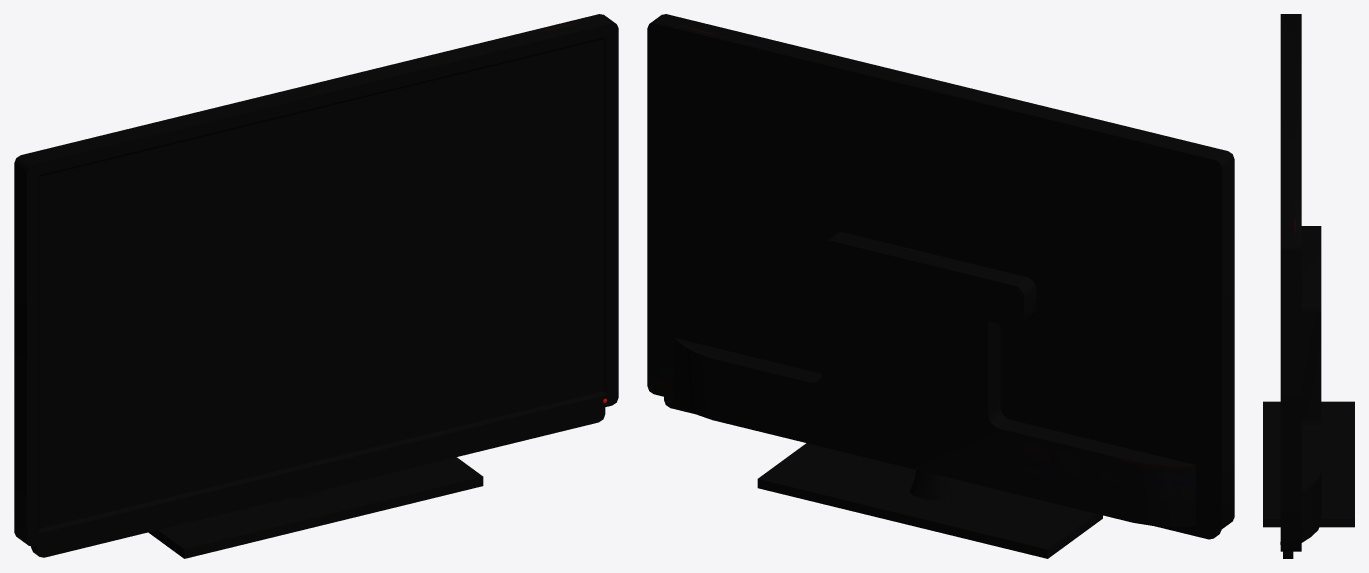
3 views of the same model, side by side, from view 1: azimuth 30°, elevation 25°; view 2: azimuth 150°, elevation 25°; view 3: azimuth 270°, elevation 25° (orthographic). The views are drawn at different scales.
Visible parts, largest first — view 1: TV1; view 2: TV1; view 3: TV1.
Boxes of the visible parts, bbox=[...] form: TV1: bbox=[14, 14, 618, 558]; TV1: bbox=[647, 14, 1234, 558]; TV1: bbox=[1263, 14, 1354, 558].
Bounding box in the file's own units: 85 × 57.72 × 14.11.
2 materials, 2 textured.
